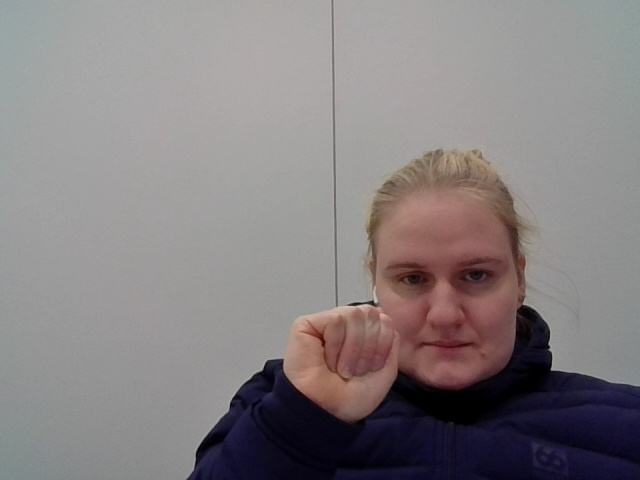down: (261, 300, 419, 422)
